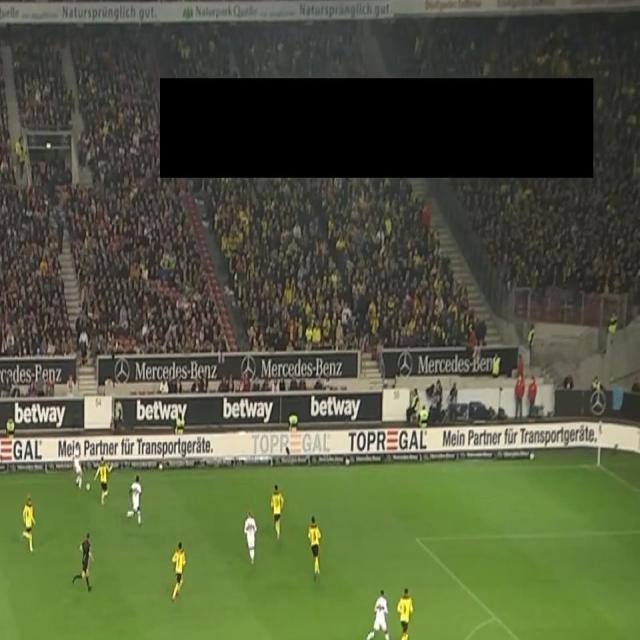ball: (85, 482, 91, 492)
